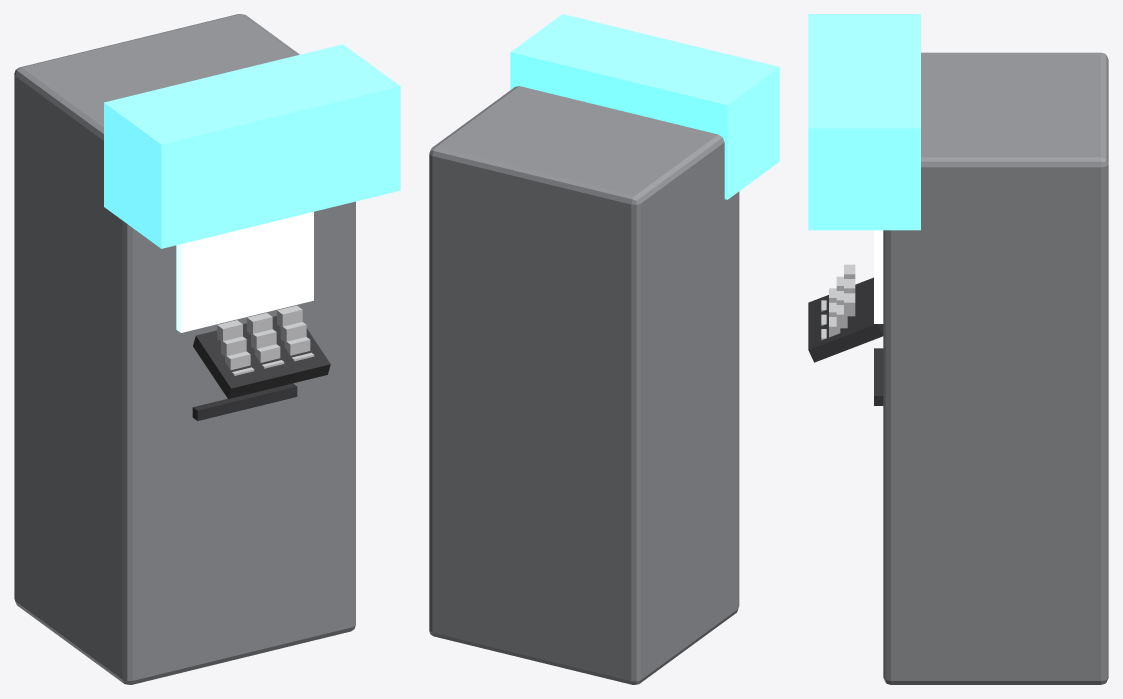
Rendered from atm.glb.
3 renders of one model, left to right at view 1: azimuth 30°, elevation 25°; view 2: azimuth 150°, elevation 25°; view 3: azimuth 270°, elevation 25°, orthographic. The views are drawn at different scales.
Visible parts, largest first — view 1: atm; view 2: atm; view 3: atm.
Part boxes in pixels (<box>): atm: <box>14,14,400,684</box>; atm: <box>429,14,779,684</box>; atm: <box>808,14,1108,684</box>.
Size of the model in its own units: 0.72 by 1.65 by 0.8.
